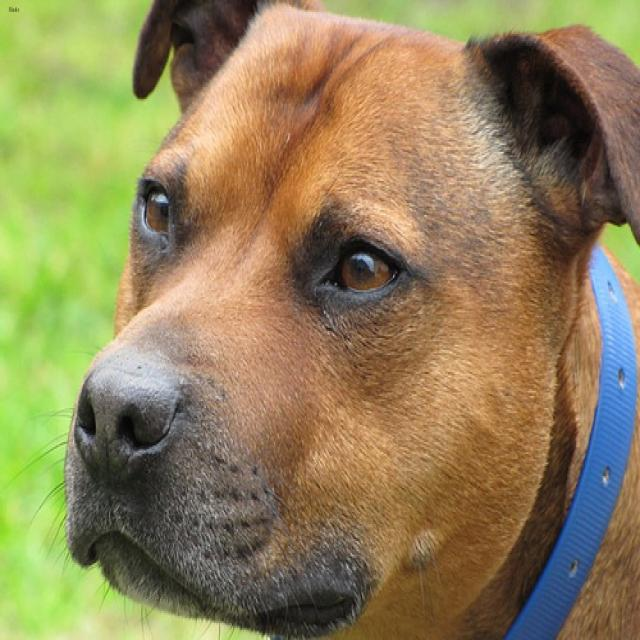dog-staffordshire_bull_terrier: (20, 2, 637, 637)
